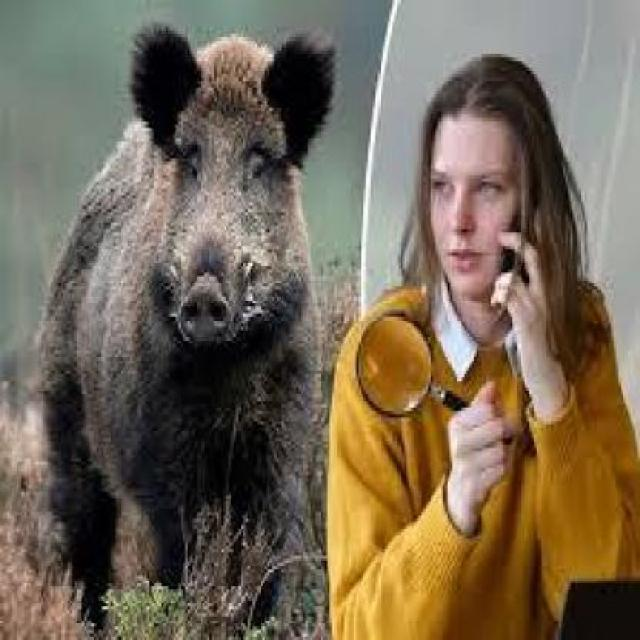wildboar: (32, 17, 334, 640)
